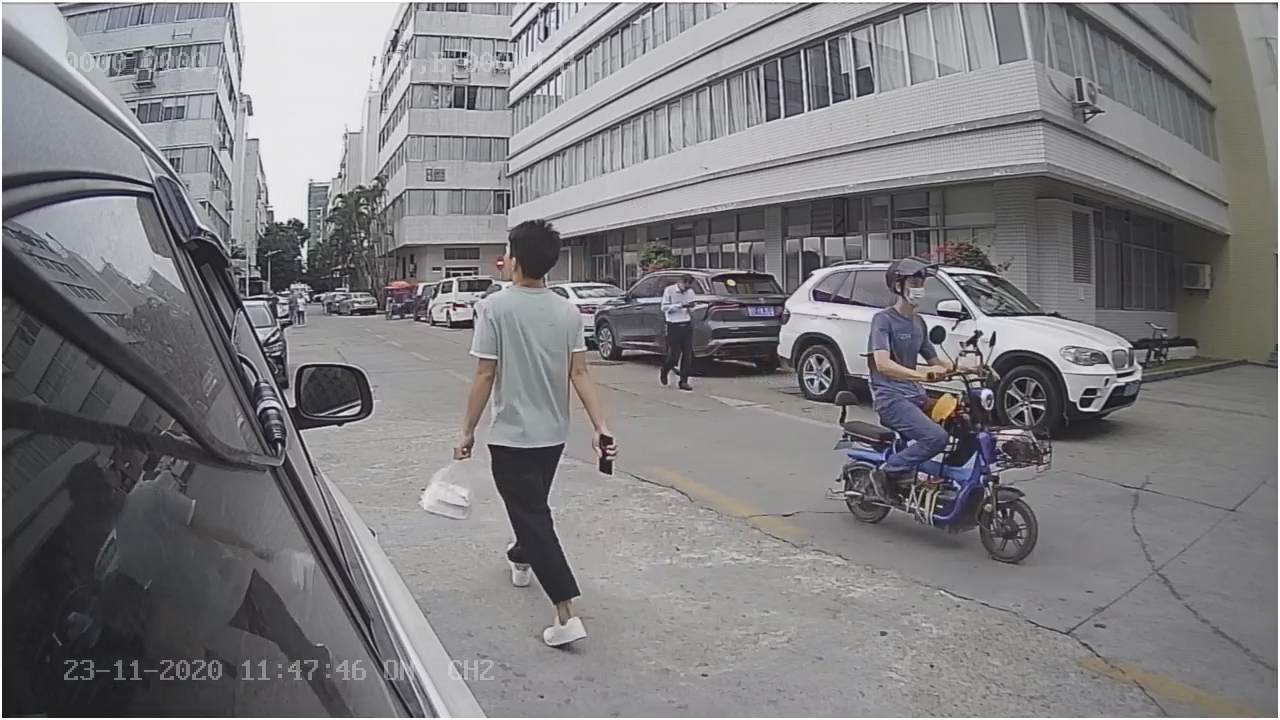person: (442, 211, 612, 645), (867, 255, 966, 384)
